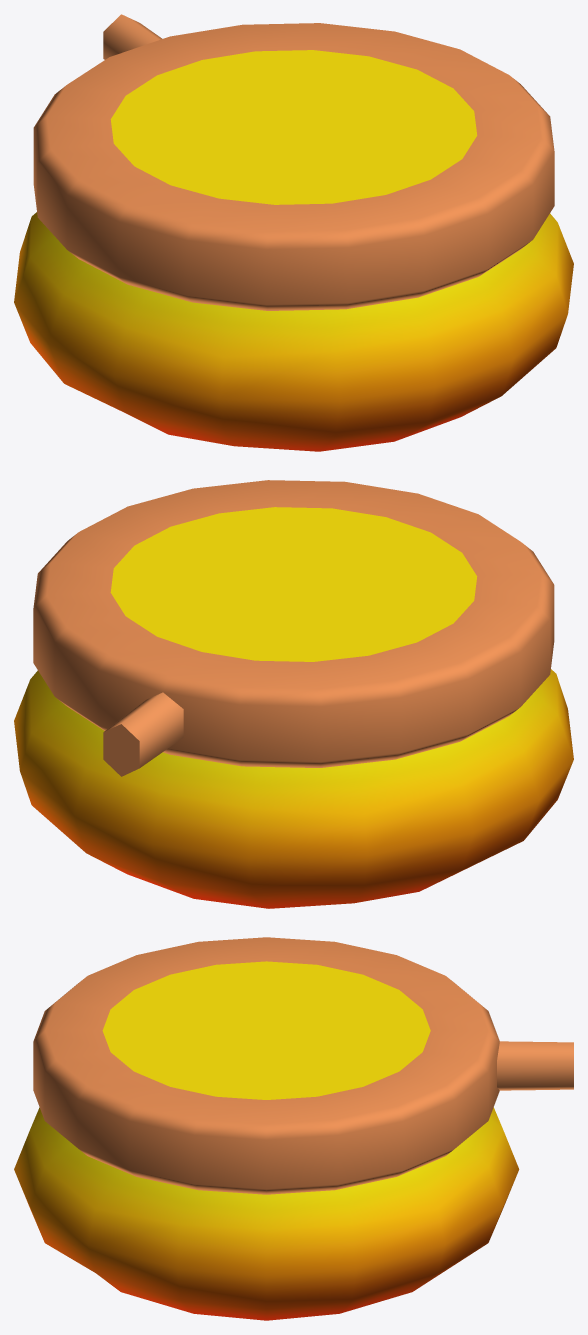
File: Elevator_02.glb
The picture shows the model from 3 angles, top to bottom: view 1: azimuth 30°, elevation 25°; view 2: azimuth 150°, elevation 25°; view 3: azimuth 270°, elevation 25°; orthographic projection. The views are drawn at different scales.
Parts seen in each view (by area): view 1: Elevator_02; view 2: Elevator_02; view 3: Elevator_02.
Boxes of the visible parts, x1=… form: Elevator_02: x1=14, y1=14, x2=573, y2=451; Elevator_02: x1=14, y1=480, x2=573, y2=908; Elevator_02: x1=14, y1=937, x2=573, y2=1320.
Size of the model in its own units: 3.25 by 1.73 by 3.6.
Materials: 1 (1 with a texture image).
